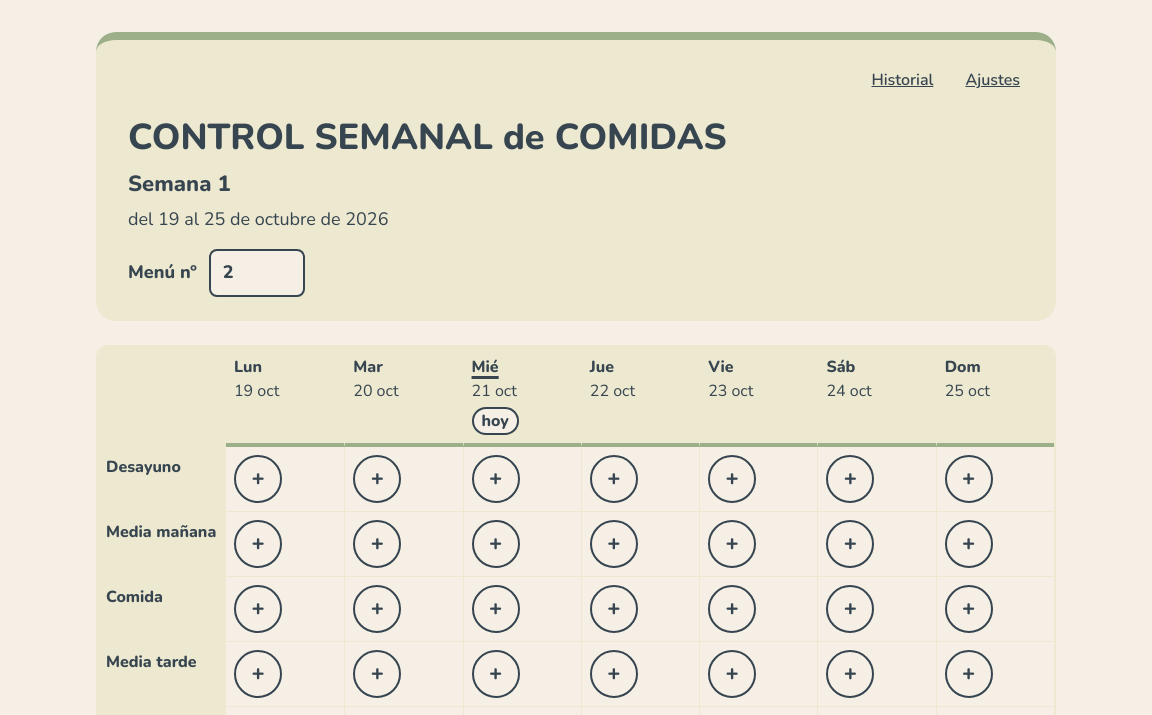
WeeklySheetScreen › guarda el nº de menú al salir del campo y muestra "Guardado"
The width and height of the screenshot is (1152, 715).
Replace the text in the number field labelled "Menú nº" with "3" at (257, 273), box [209,249,305,297]
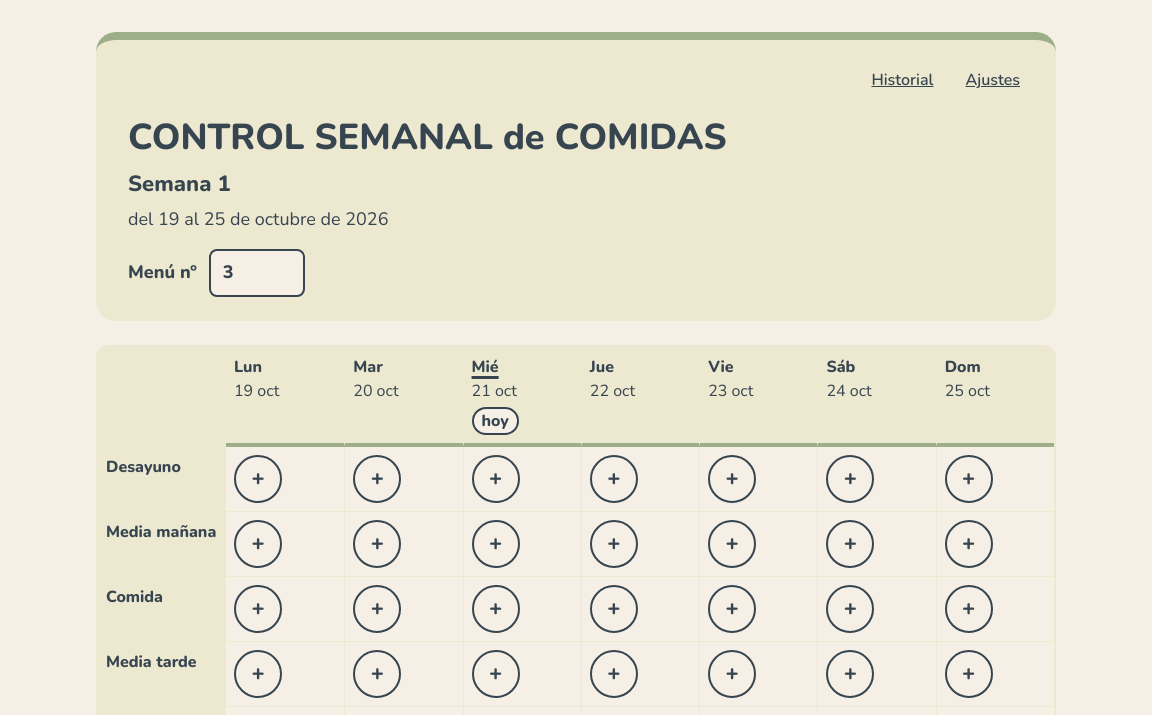
Leave the number field labelled "Menú nº", box [209,249,305,297]
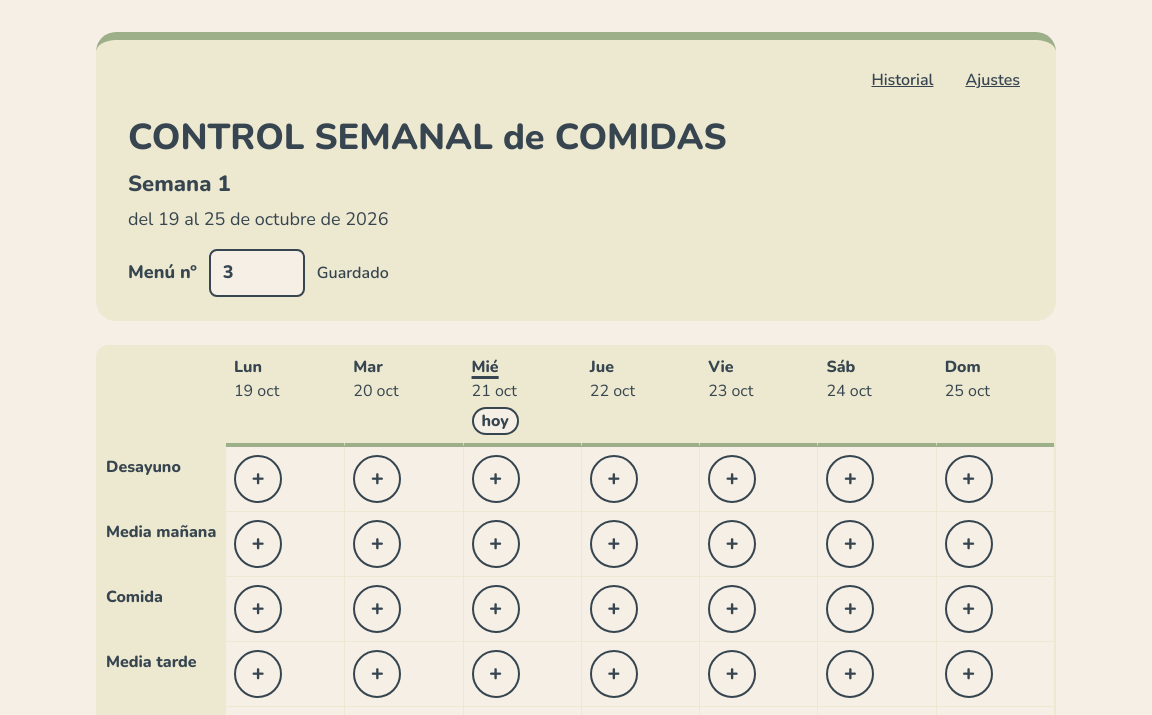
Expected: the text "Guardado" is shown, [317,261,389,285]
